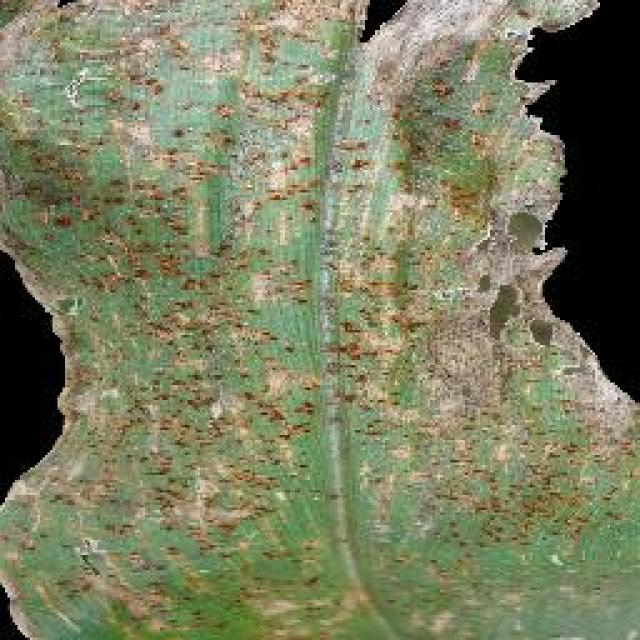Corn Common Rust: (93, 0, 591, 613)
